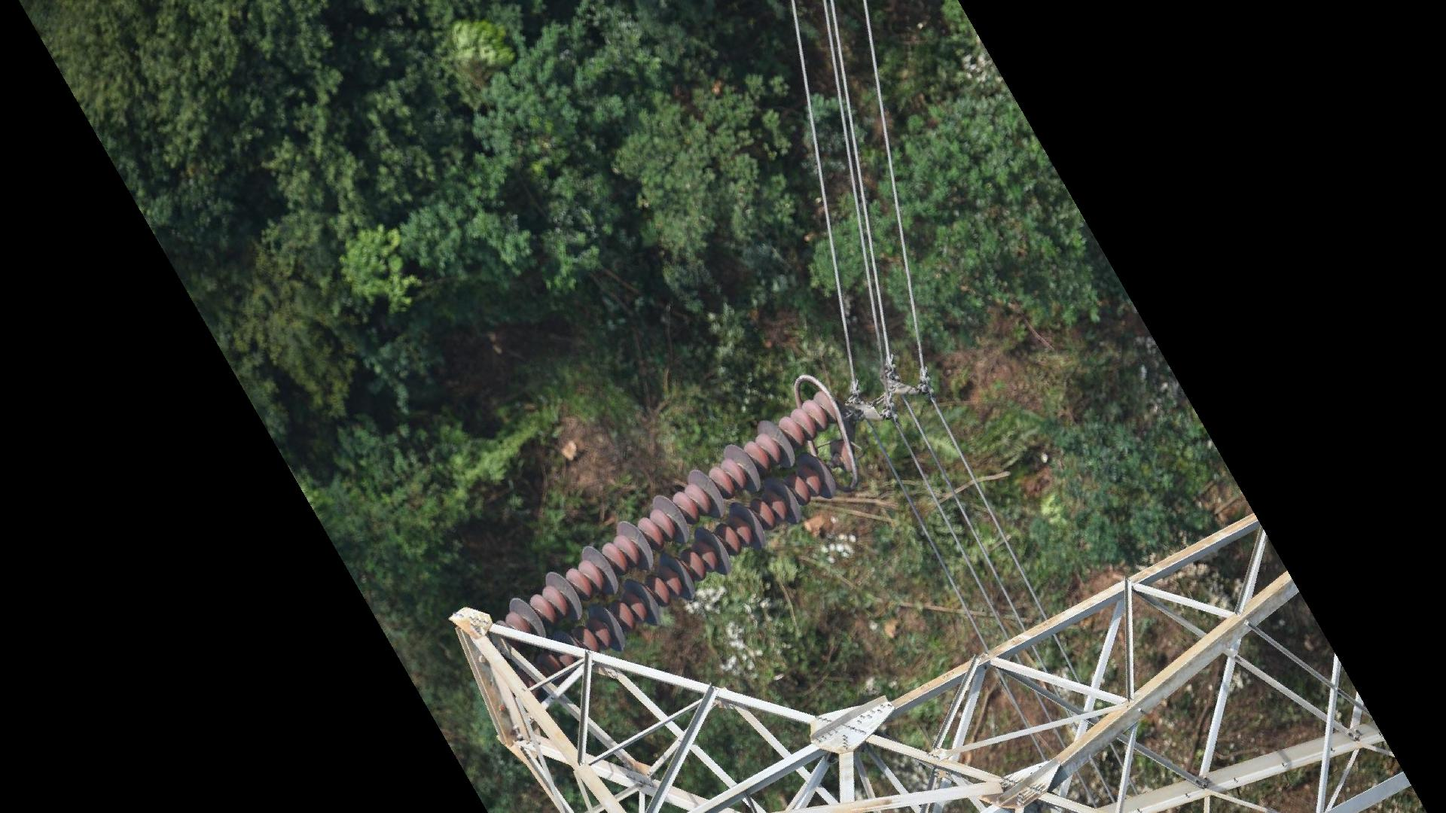insulator: (492, 384, 863, 690)
insulator_stringdrop: (801, 438, 857, 495)
